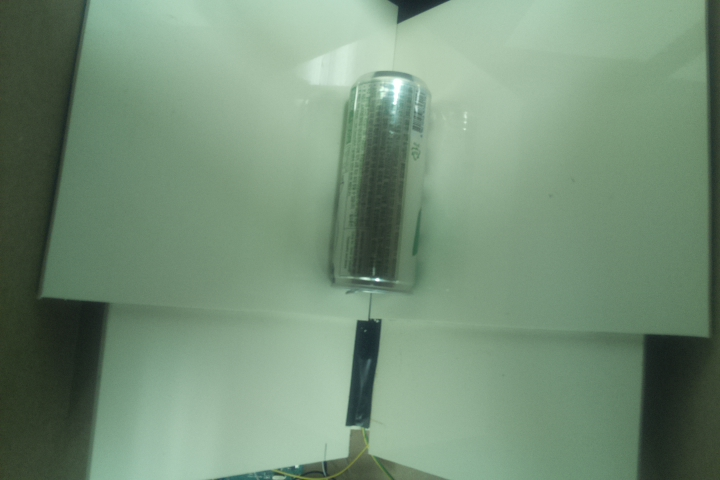can: (324, 65, 432, 299)
